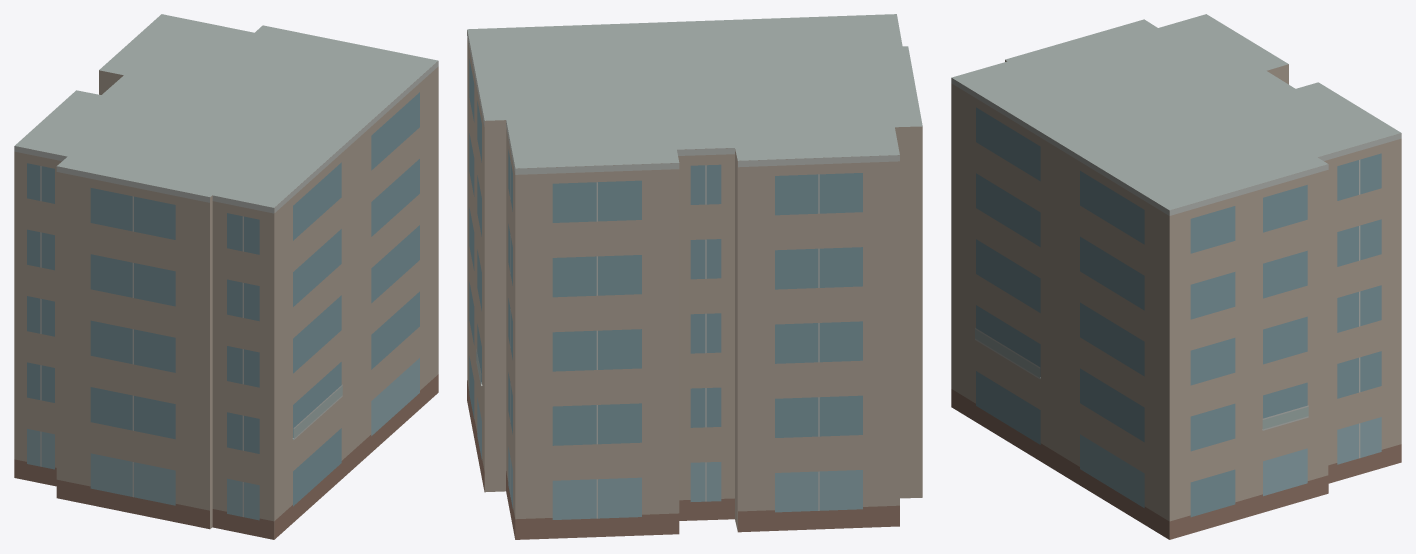
File: survey-upis-32912581.glb
3 views of the same model, side by side, from view 1: azimuth 30°, elevation 25°; view 2: azimuth 150°, elevation 25°; view 3: azimuth 270°, elevation 25° (orthographic). The views are drawn at different scales.
Visible parts, largest first — view 1: survey-upis-32912581.tmp; view 2: survey-upis-32912581.tmp; view 3: survey-upis-32912581.tmp.
Part boxes in pixels (box(x1,y1,x2,y2)): survey-upis-32912581.tmp: box(14, 14, 438, 539); survey-upis-32912581.tmp: box(467, 14, 922, 539); survey-upis-32912581.tmp: box(951, 14, 1401, 539).
Bounding box in the file's own units: 18.16 × 14.2 × 17.59.
